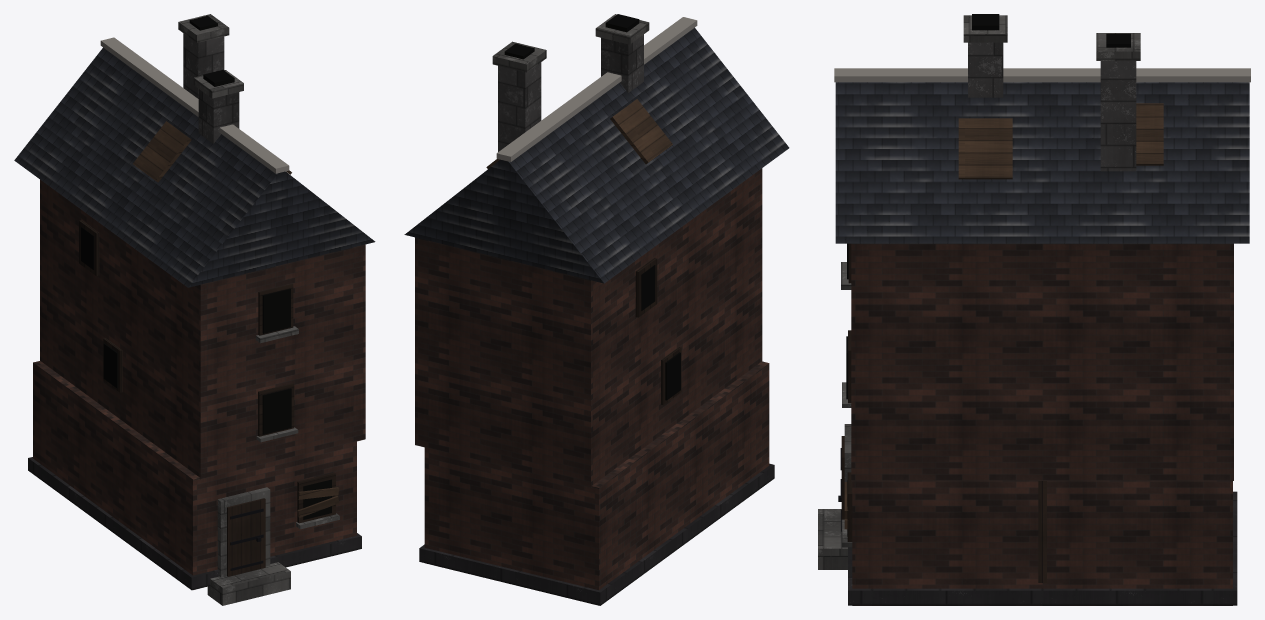
File: CasaS17.gltf
3 views of the same model, side by side, from view 1: azimuth 30°, elevation 25°; view 2: azimuth 150°, elevation 25°; view 3: azimuth 270°, elevation 25° (orthographic). The views are drawn at different scales.
Parts seen in each view (by area): view 1: CasaS17; view 2: CasaS17; view 3: CasaS17.
Boxes of the visible parts, x1,y1,x2,y2 form: CasaS17: [14, 14, 375, 605]; CasaS17: [404, 14, 789, 605]; CasaS17: [818, 14, 1250, 605].
Bounding box in the file's own units: 5.66 × 12.56 × 8.89.
10 materials, 7 textured.
